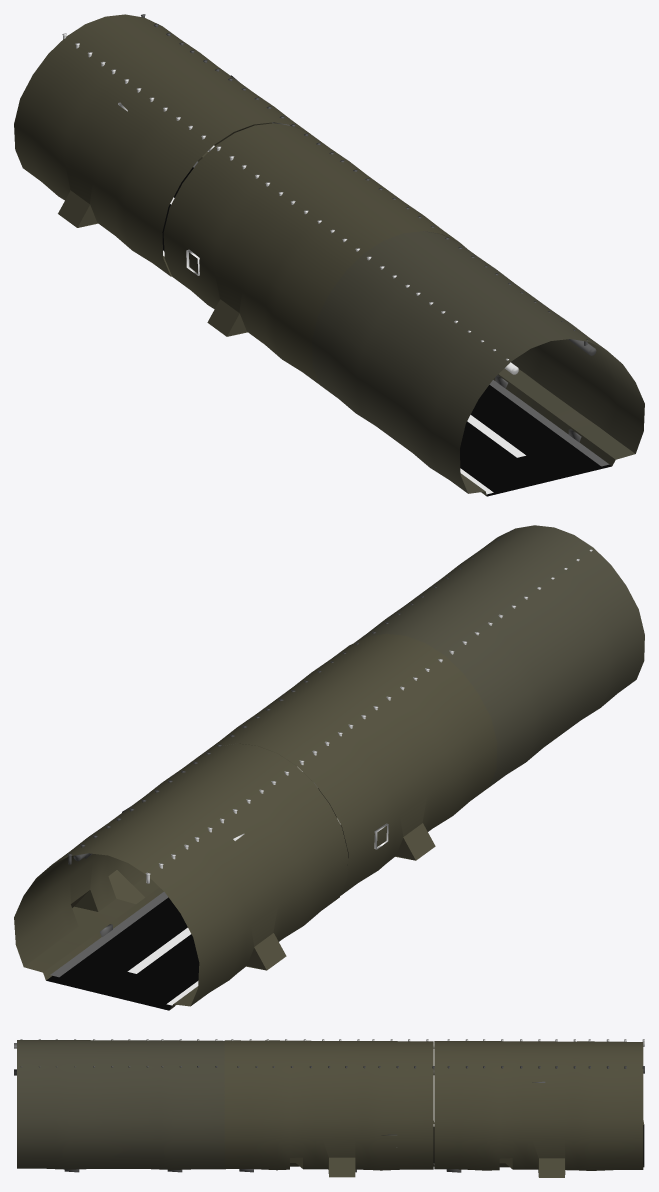
File: FinalTunnelLayout.fbx
3 views of the same model, one above another, from view 1: azimuth 30°, elevation 25°; view 2: azimuth 150°, elevation 25°; view 3: azimuth 270°, elevation 25° (orthographic). The views are drawn at different scales.
Visible parts, largest first — view 1: layouttunnel, frontblanktunnel, pipeconnection; view 2: layouttunnel, frontblanktunnel, pipeconnection; view 3: layouttunnel, frontblanktunnel, pipeconnection.
Part boxes in pixels (x1,y1,x2,y2): layouttunnel: (14,14,466,385); frontblanktunnel: (312,231,644,496); pipeconnection: (62,14,609,494); layouttunnel: (14,633,497,1010); frontblanktunnel: (354,525,644,787); pipeconnection: (50,530,592,1006); layouttunnel: (224,1040,644,1177); frontblanktunnel: (17,1040,225,1169); pipeconnection: (14,1039,644,1172).
Size of the model in its own units: 313 by 208 by 1149.
